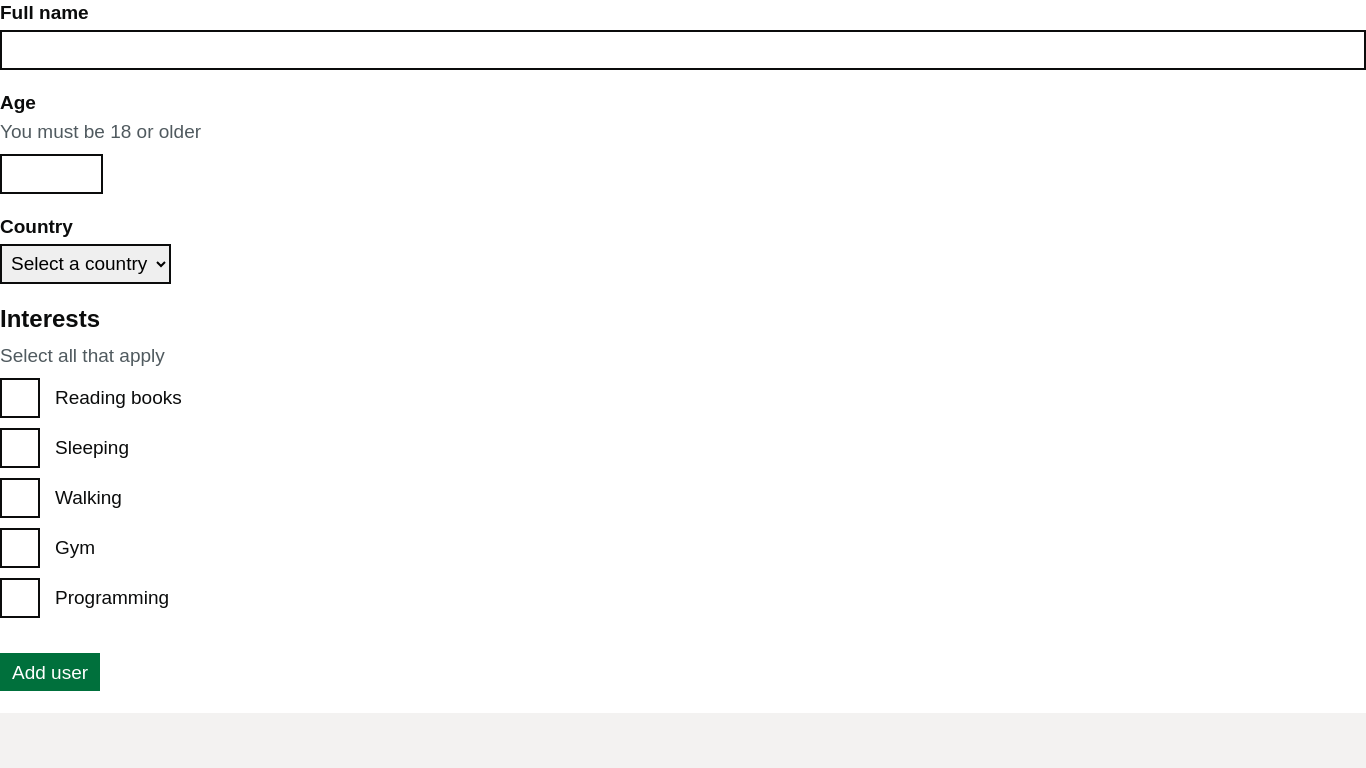
Test: UserForm › shows validation errors when form is submitted empty
Click the button "Add user" at (50, 672), box left=0, top=652, right=100, bottom=690
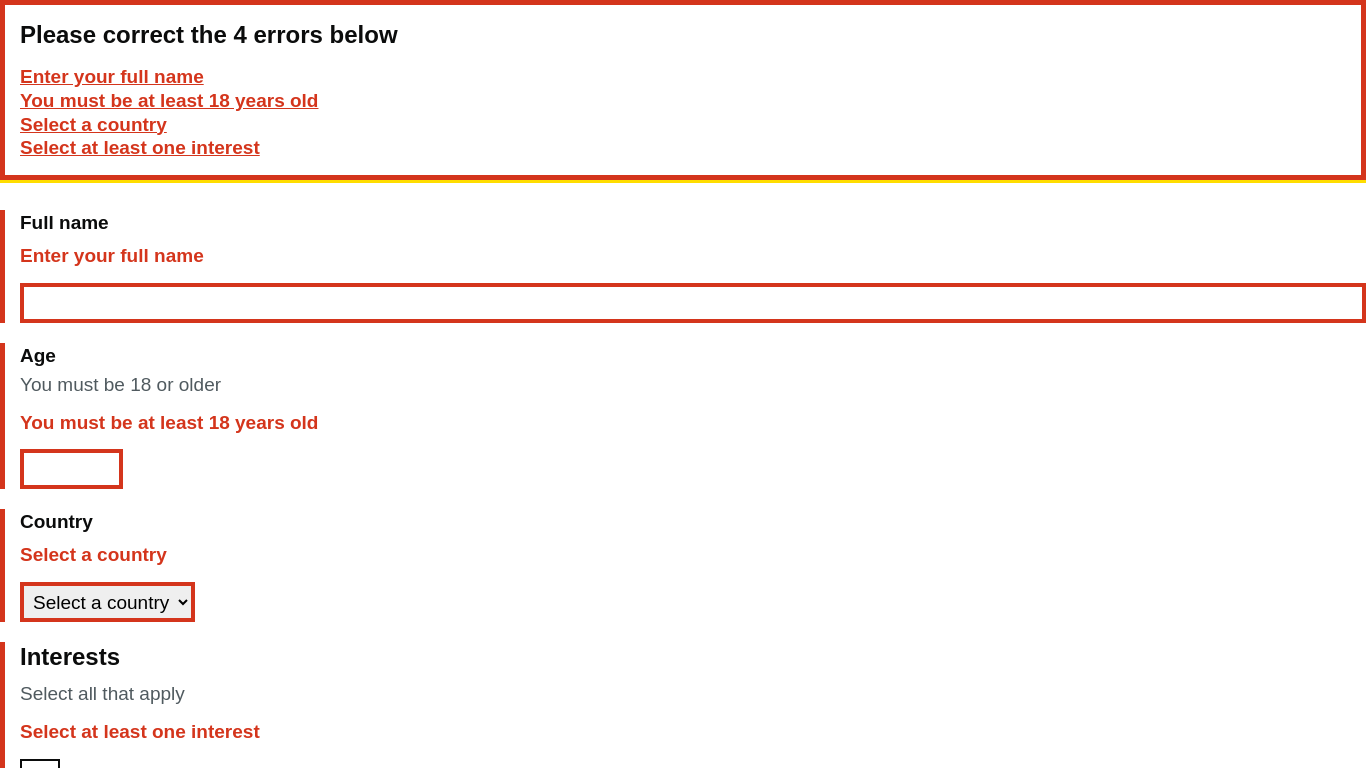
Expected: the link "Enter your full name" is shown, left=20, top=66, right=204, bottom=87
Expected: the link "You must be at least 18 years old" is shown, left=20, top=90, right=318, bottom=111
Expected: the link "Select a country" is shown, left=20, top=114, right=167, bottom=134
